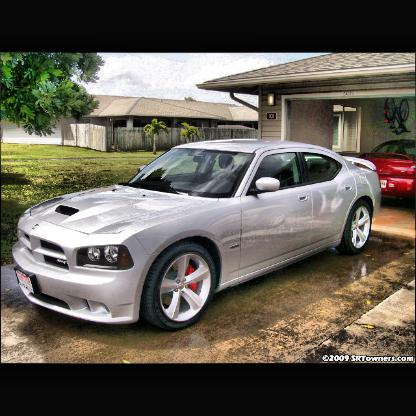Dodge Charger SRT-8 2009: (12, 141, 383, 338)
